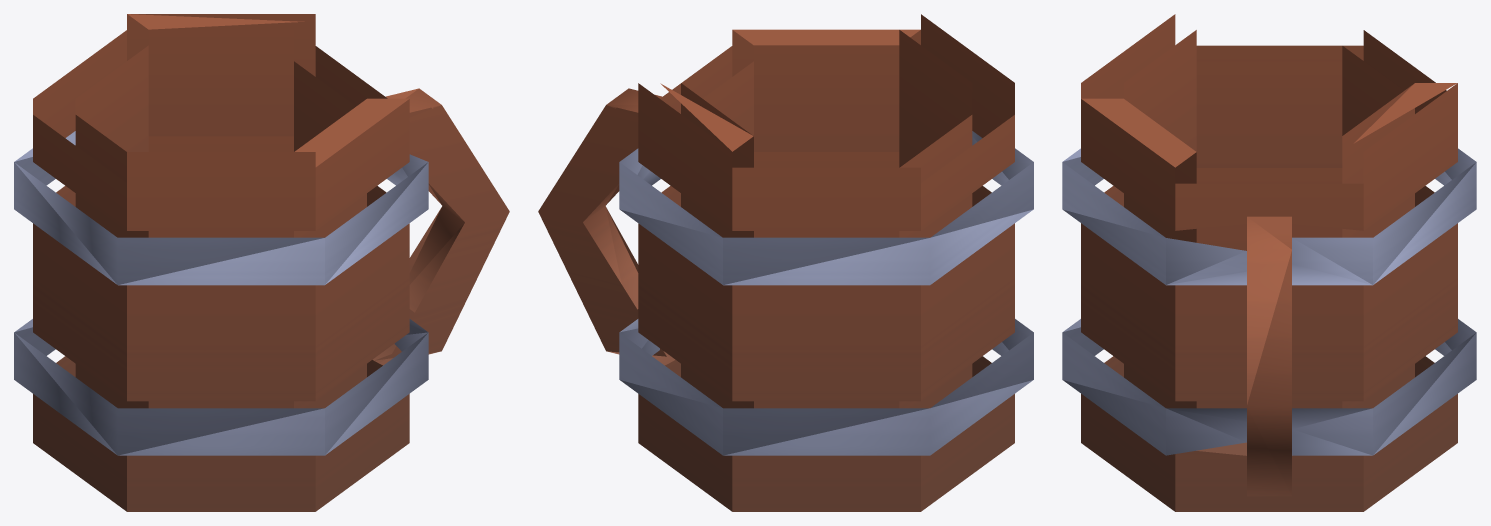
The model's file is mug_lite.fbx.
The picture shows the model from 3 angles, left to right: view 1: azimuth 30°, elevation 25°; view 2: azimuth 150°, elevation 25°; view 3: azimuth 270°, elevation 25°; orthographic projection.
Parts seen in each view (by area): view 1: mug_lite; view 2: mug_lite; view 3: mug_lite.
Part boxes in pixels (x1,y1,x2,y2): mug_lite: (14, 14, 509, 511); mug_lite: (538, 14, 1033, 511); mug_lite: (1062, 14, 1476, 511).
Bounding box in the file's own units: 0.1257 × 0.1 × 0.1043.
Materials: 1 (1 with a texture image).
